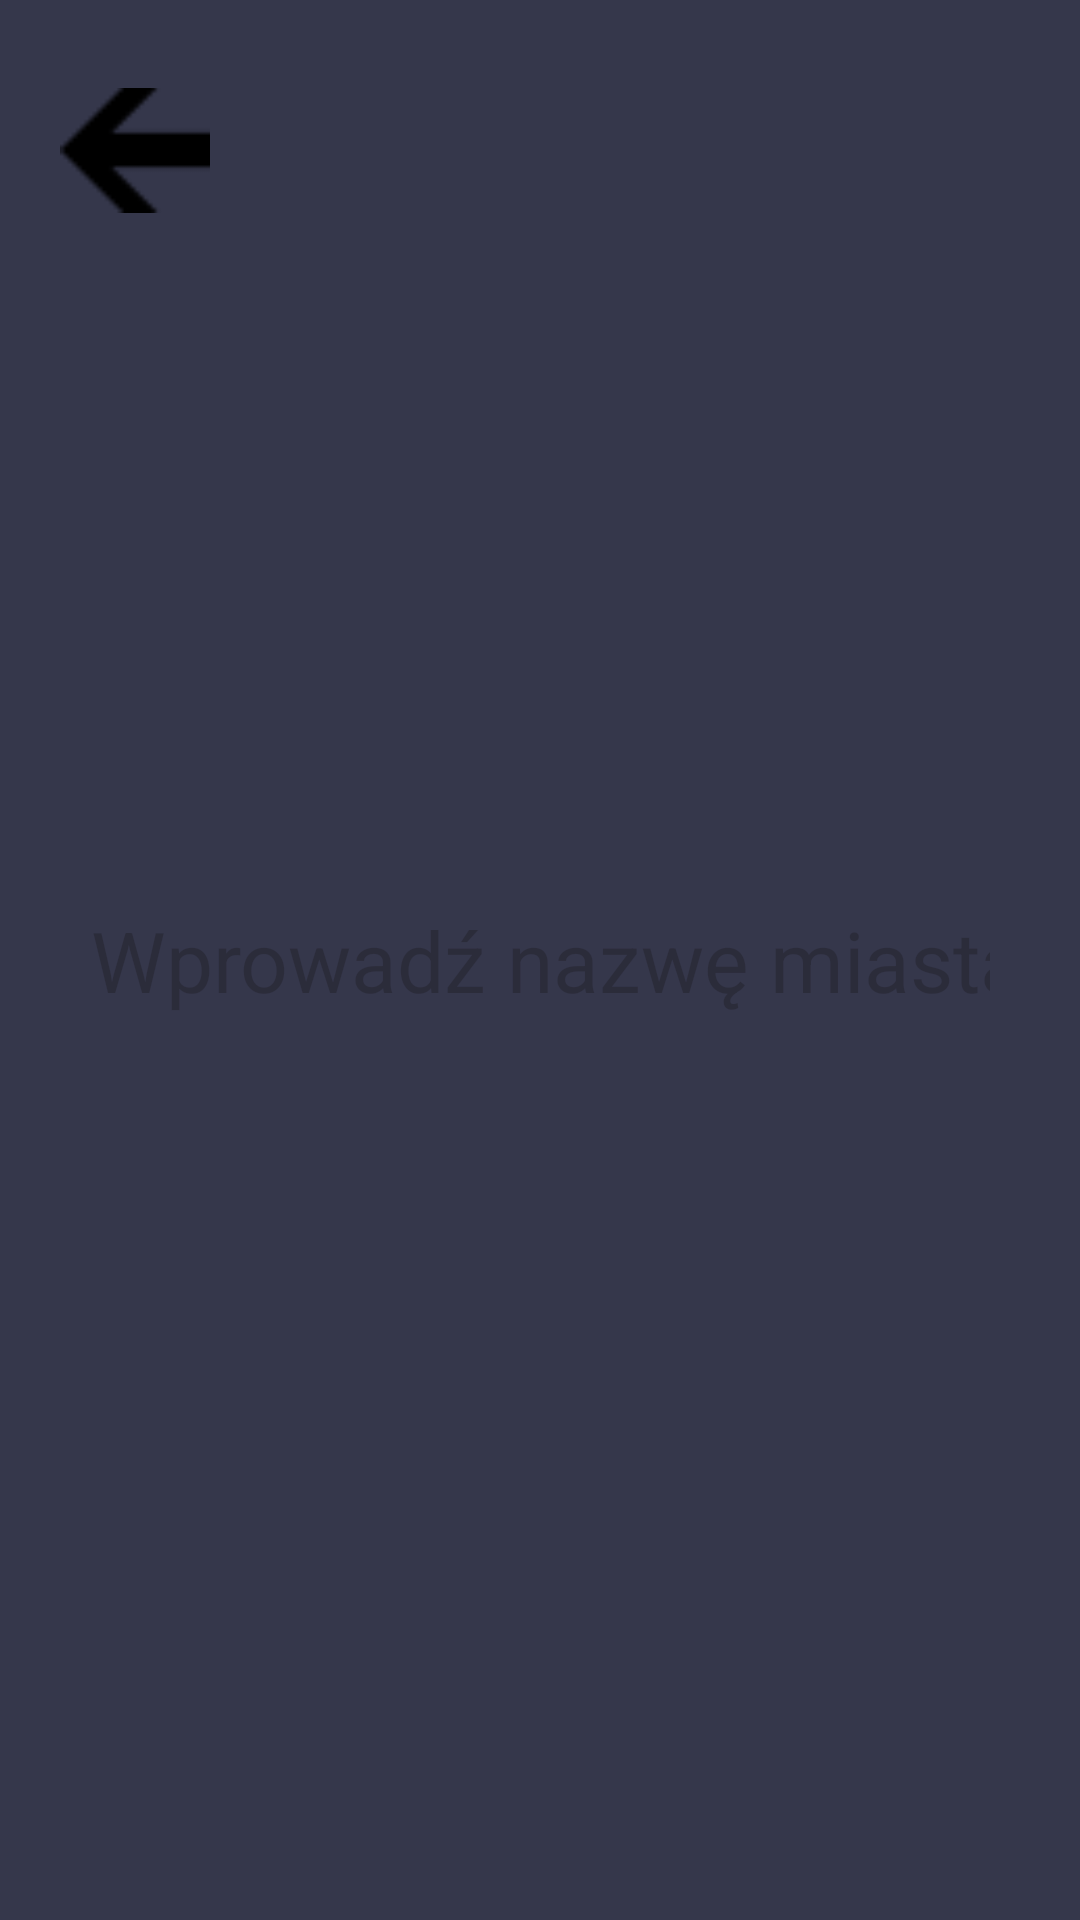

Locate icon controls on the screen. Image size 1080x1920, boxes as {"left": x1, "top": y1, "right": x2, "bottom": y2}.
arrow: {"left": 60, "top": 88, "right": 210, "bottom": 213}
